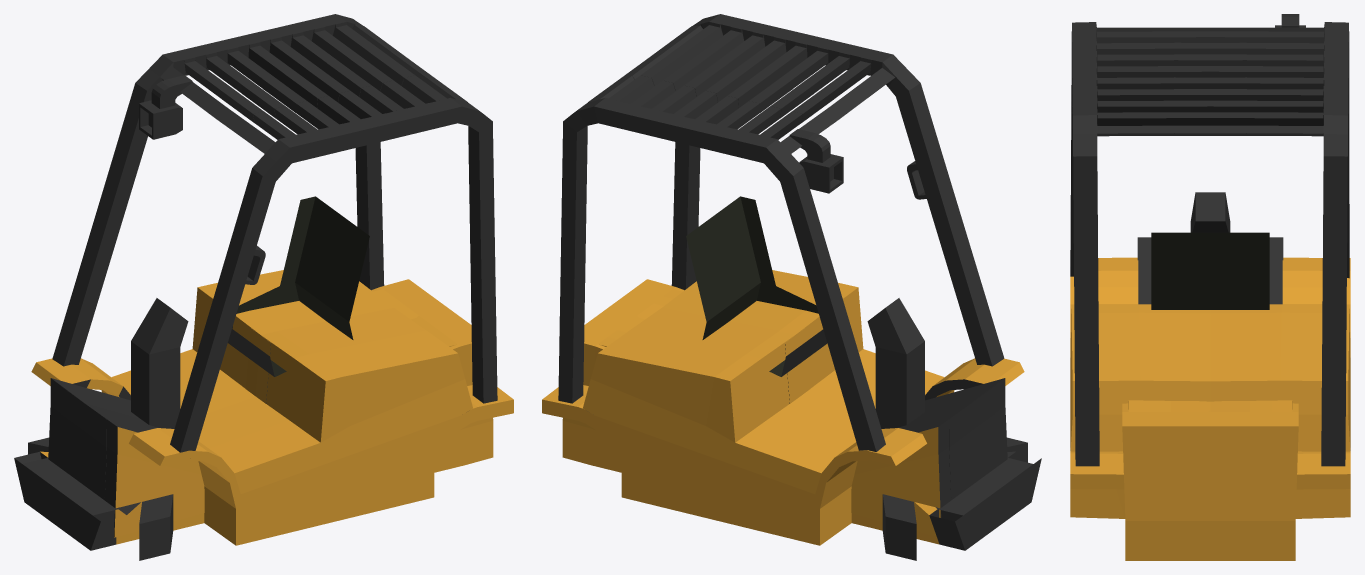
Rendered from forklift-body.glb.
The picture shows the model from 3 angles, left to right: view 1: azimuth 30°, elevation 25°; view 2: azimuth 150°, elevation 25°; view 3: azimuth 270°, elevation 25°; orthographic projection. The views are drawn at different scales.
Parts seen in each view (by area): view 1: Cube; view 2: Cube; view 3: Cube.
Boxes of the visible parts, x1=… form: Cube: x1=14, y1=14, x2=513, y2=560; Cube: x1=542, y1=14, x2=1041, y2=560; Cube: x1=1070, y1=14, x2=1350, y2=560.
Size of the model in its own units: 4 by 3.71 by 2.25.
